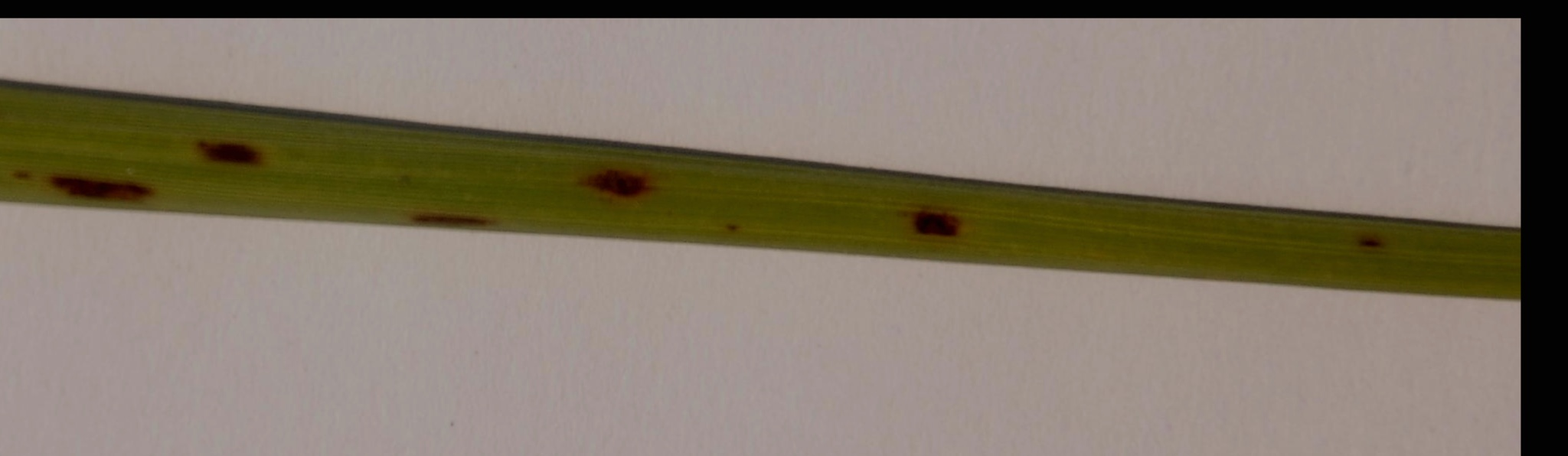Bacterial_Leaf_Blight: (15, 168, 156, 209), (572, 143, 653, 203), (895, 196, 968, 259), (389, 192, 487, 237), (167, 130, 274, 169), (1349, 211, 1394, 256)
